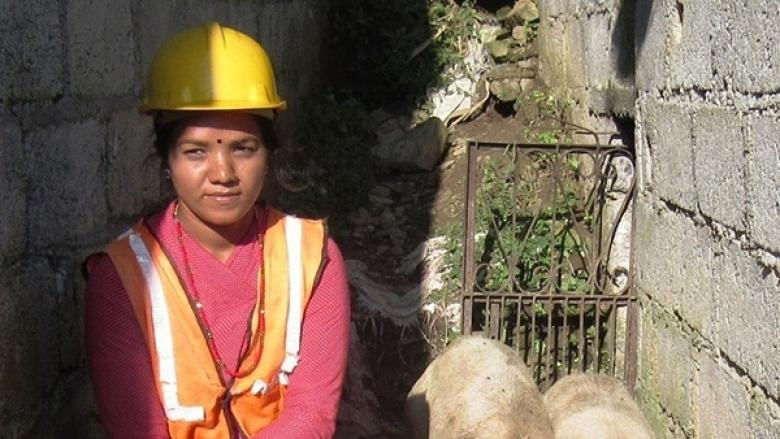helmet: (138, 20, 293, 118)
wear: (80, 224, 347, 438)
